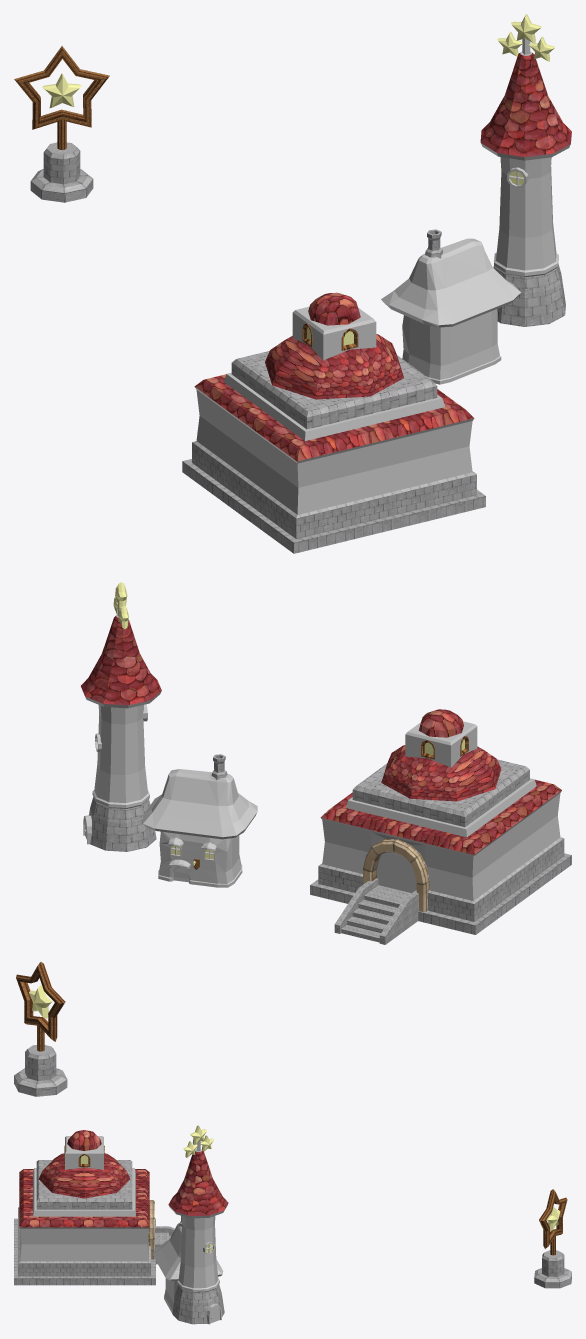
File: PeachCastleTownBeforeAttack_bake.dae
The picture shows the model from 3 angles, top to bottom: view 1: azimuth 30°, elevation 25°; view 2: azimuth 150°, elevation 25°; view 3: azimuth 270°, elevation 25°; orthographic projection. The views are drawn at different scales.
Parts seen in each view (by area): view 1: m4, m2, m3, m5, m1, m6, m0; view 2: m2, m4, m3, m1, m5, m6, m7, m0; view 3: m2, m3, m4, m1, m5, m6, m0, m7.
Boxes of the visible parts, x1=… form: m4: x1=196, y1=157, x2=556, y2=514; m2: x1=30, y1=142, x2=565, y2=553; m3: x1=194, y1=52, x2=571, y2=461; m5: x1=381, y1=238, x2=520, y2=325; m1: x1=195, y1=38, x2=570, y2=463; m6: x1=14, y1=46, x2=358, y2=350; m0: x1=42, y1=14, x2=554, y2=345; m2: x1=14, y1=754, x2=571, y2=1096; m4: x1=94, y1=705, x2=560, y2=900; m3: x1=81, y1=616, x2=561, y2=854; m1: x1=83, y1=604, x2=561, y2=893; m5: x1=143, y1=769, x2=257, y2=866; m6: x1=16, y1=736, x2=468, y2=1051; m7: x1=363, y1=839, x2=429, y2=911; m0: x1=29, y1=582, x2=464, y2=1018; m2: x1=14, y1=1160, x2=571, y2=1324; m3: x1=19, y1=1130, x2=228, y2=1227; m4: x1=20, y1=1136, x2=218, y2=1310; m1: x1=19, y1=1141, x2=227, y2=1324; m5: x1=153, y1=1223, x2=223, y2=1279; m6: x1=64, y1=1145, x2=567, y2=1255; m0: x1=80, y1=1125, x2=560, y2=1252; m7: x1=148, y1=1200, x2=154, y2=1259.
Bounding box in the file's own units: 3625 × 2836 × 6599.
